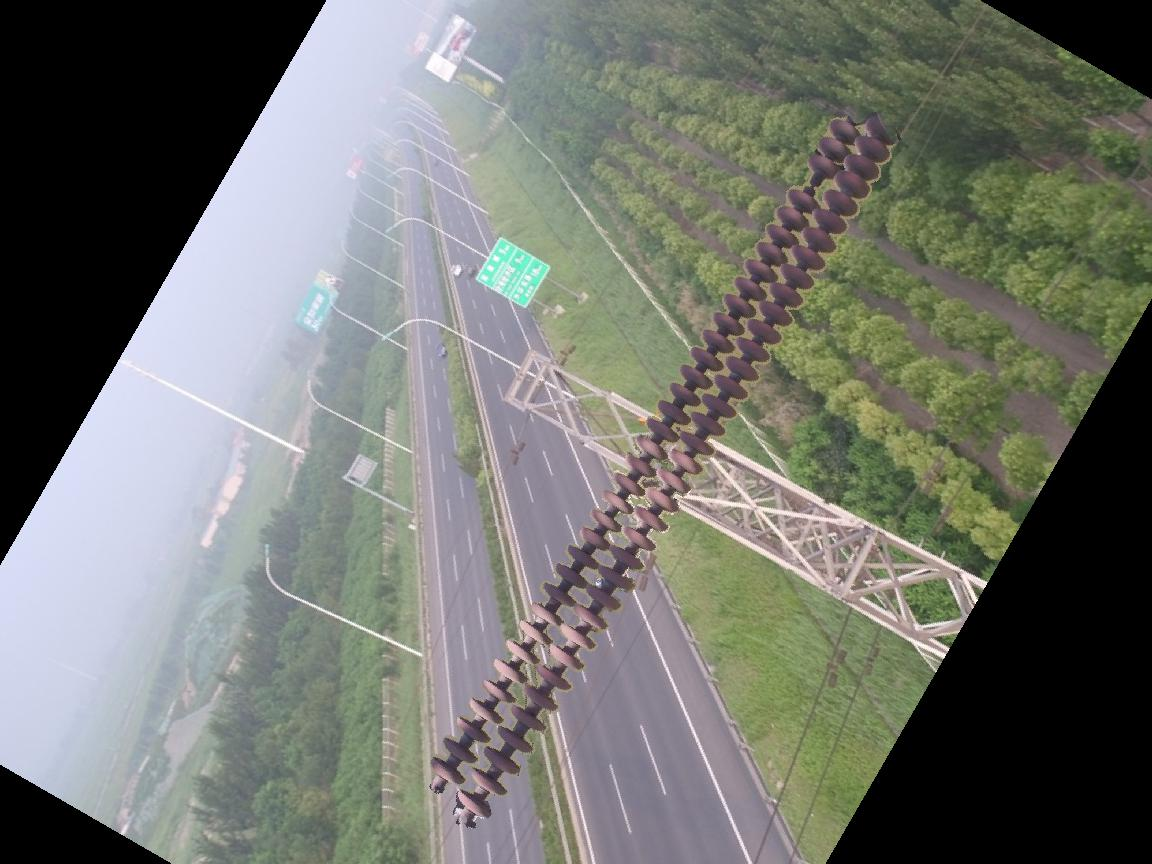insulator: (426, 106, 906, 827)
insulator_stringdrop: (785, 151, 842, 214)
